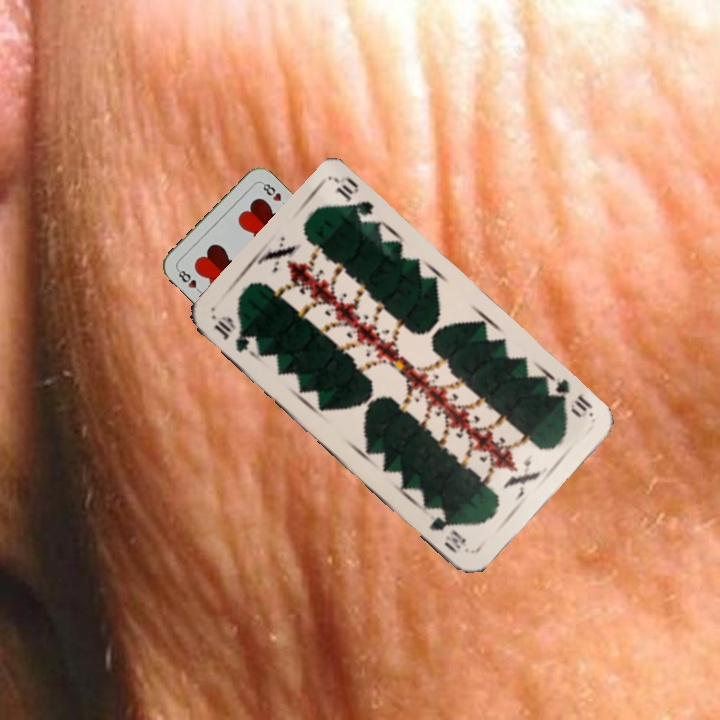G10: (542, 375, 596, 421), (210, 312, 252, 355)
H8: (173, 265, 205, 297)
